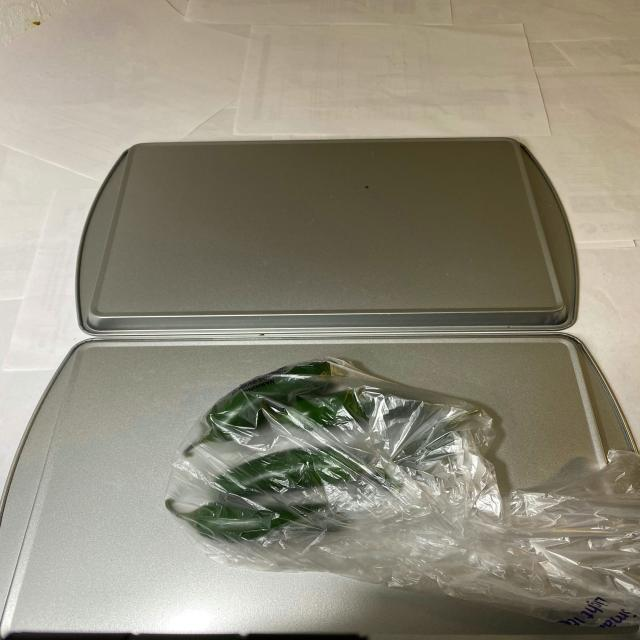chilli: (165, 354, 480, 563)
